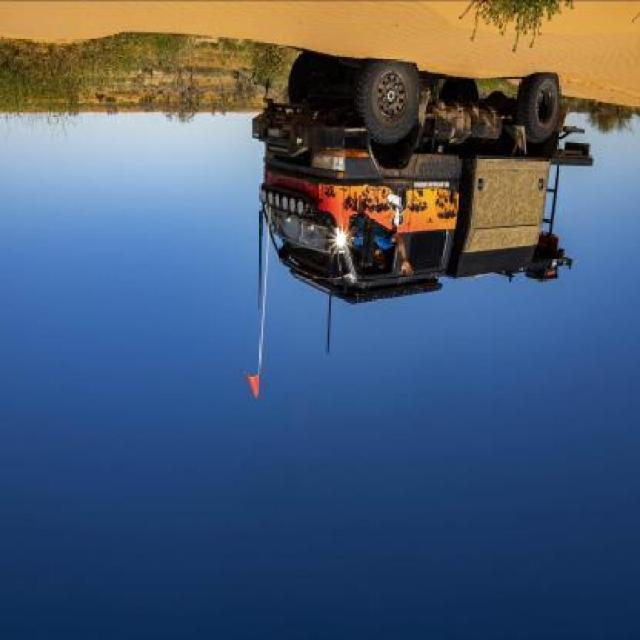truck: (251, 68, 600, 303)
